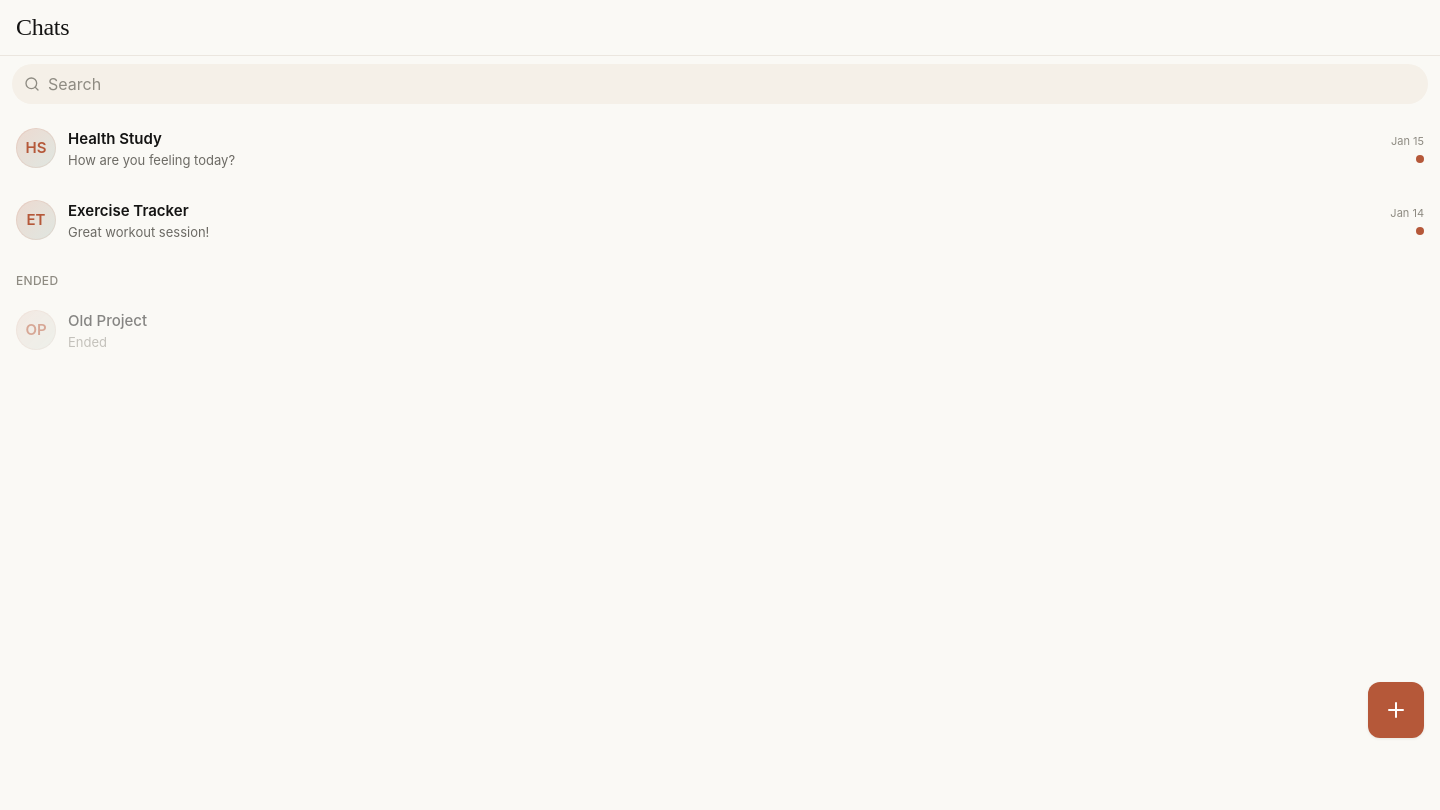
Test: Dashboard chats list › filters chats by search query matching last message preview
Expected: the text "Health Study" is shown, left=68, top=129, right=162, bottom=148
Type "feeling" into the field with test id "chat-search".
click(720, 84); type("feeling")  # box left=12, top=64, right=1428, bottom=104
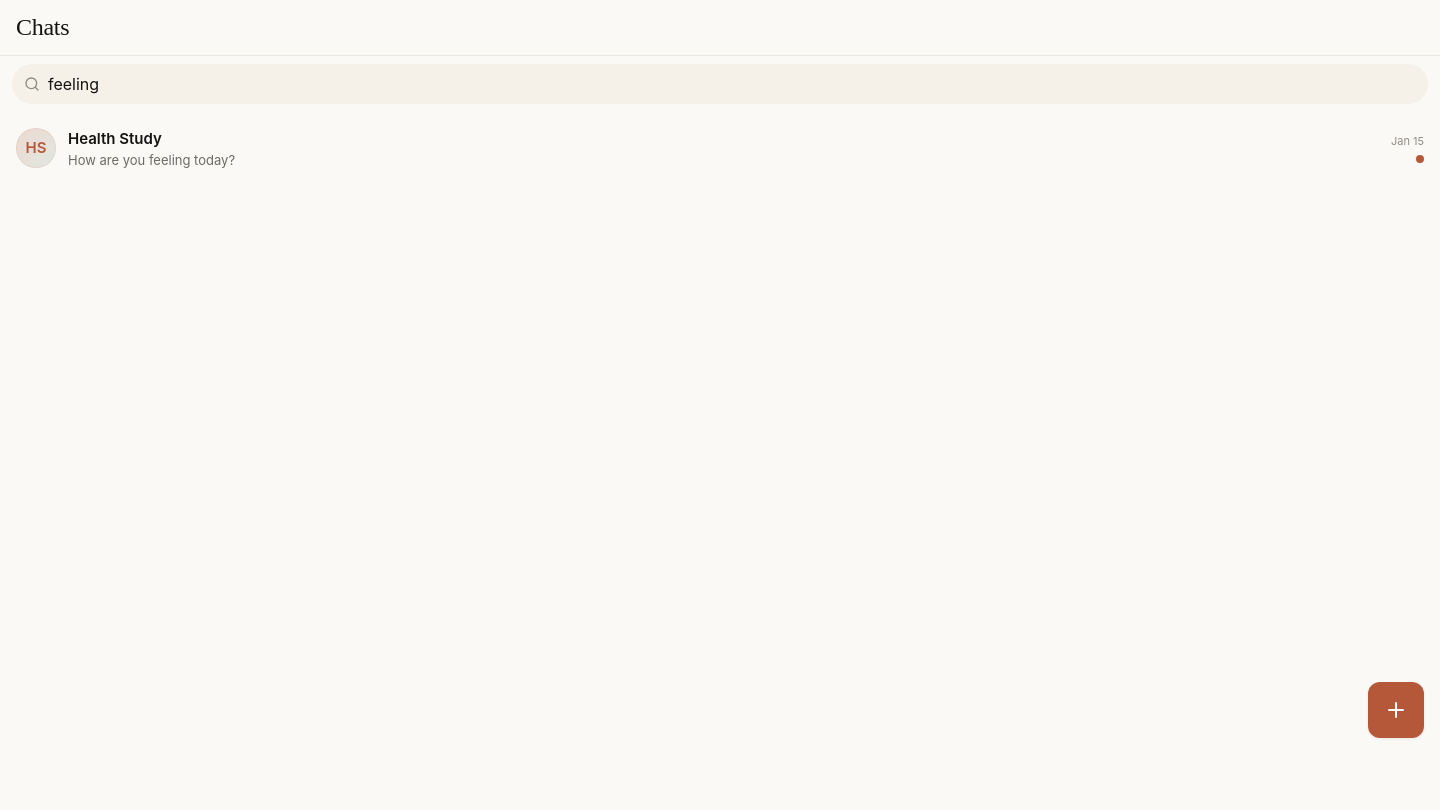
Expected: the text "Health Study" is shown, left=68, top=129, right=162, bottom=148
Result: the link "Exercise Tracker" is gone
